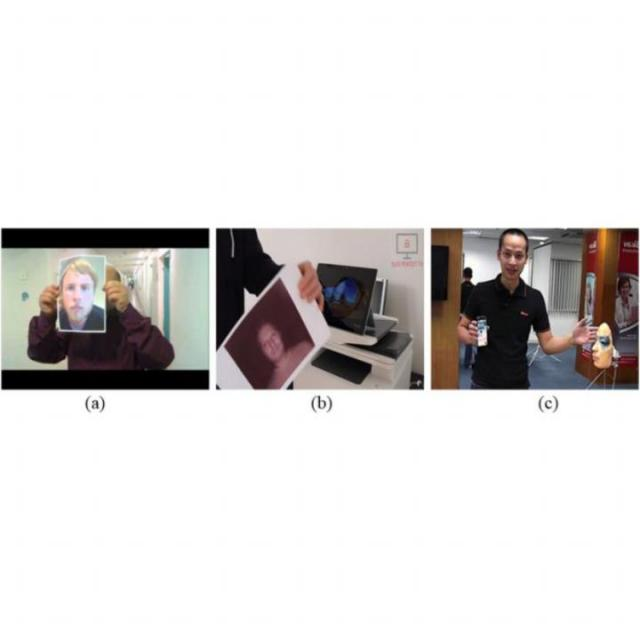live: (497, 231, 530, 277)
photo: (52, 251, 108, 335)
